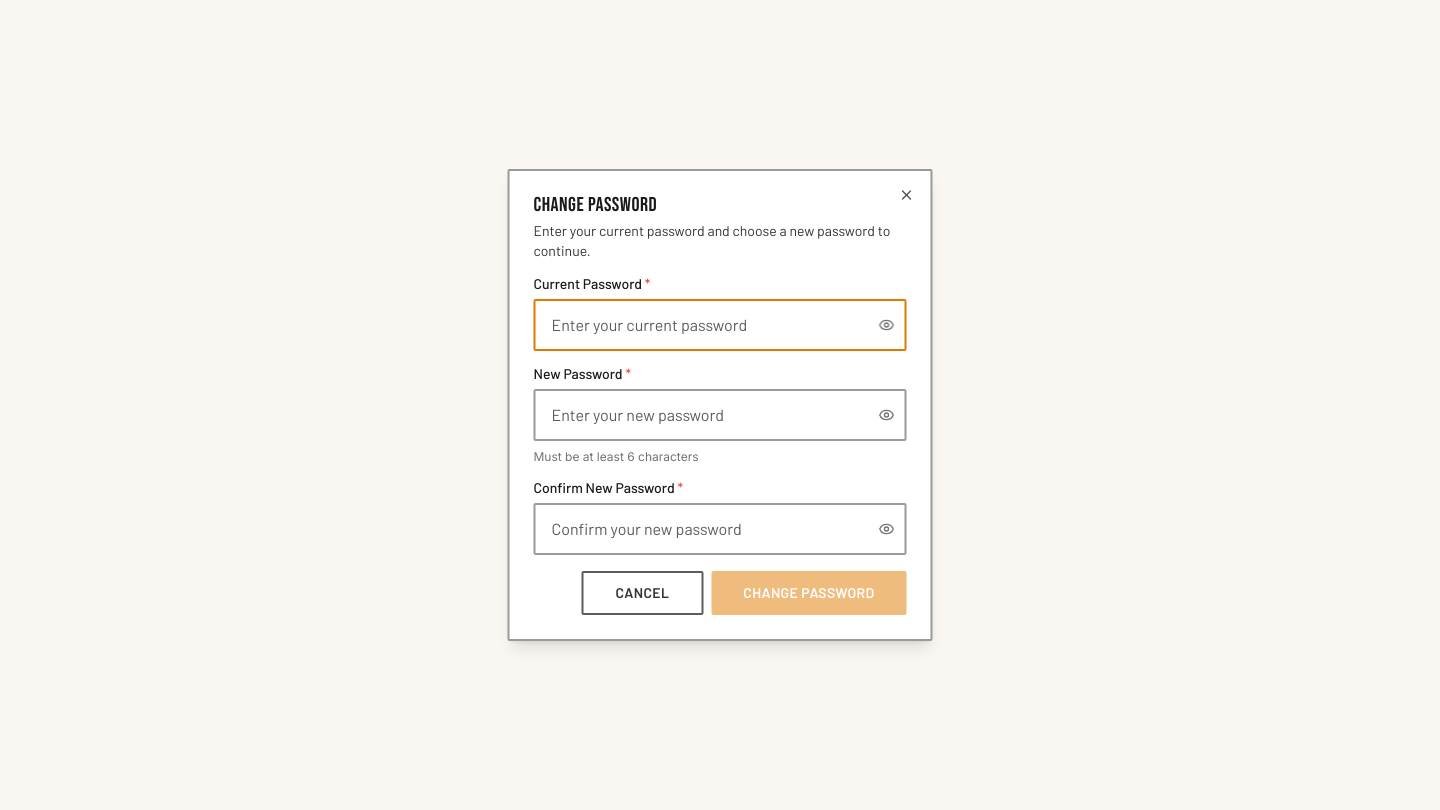
it: PasswordChangeForm › Form Validation › should require new password to be at least 6 characters
The image size is (1440, 810).
In the password field labelled "Current Password *": (720, 325) [534, 299, 906, 351], type "oldpass"
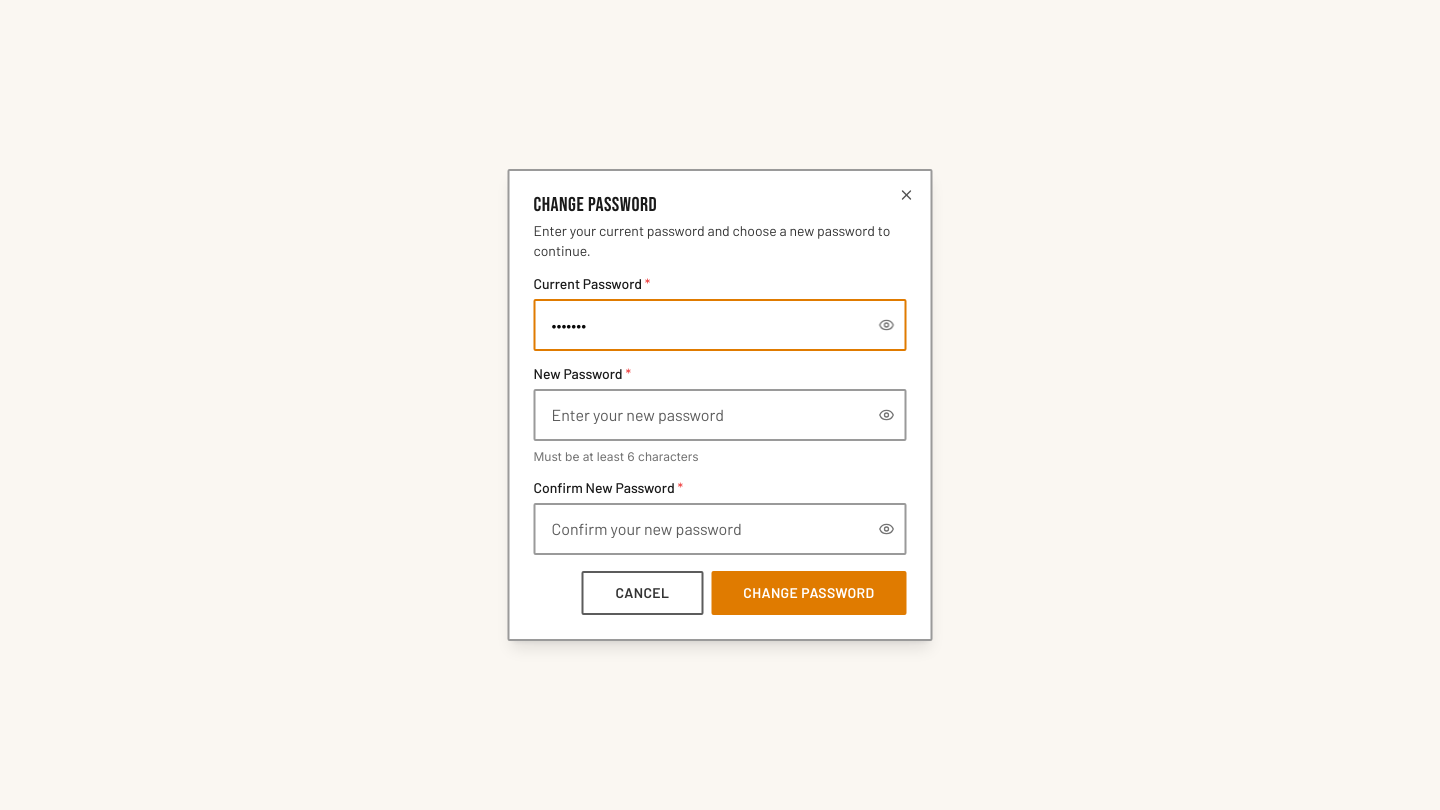
In the password field labelled "New Password *": (720, 415) [534, 389, 906, 441], type "short"
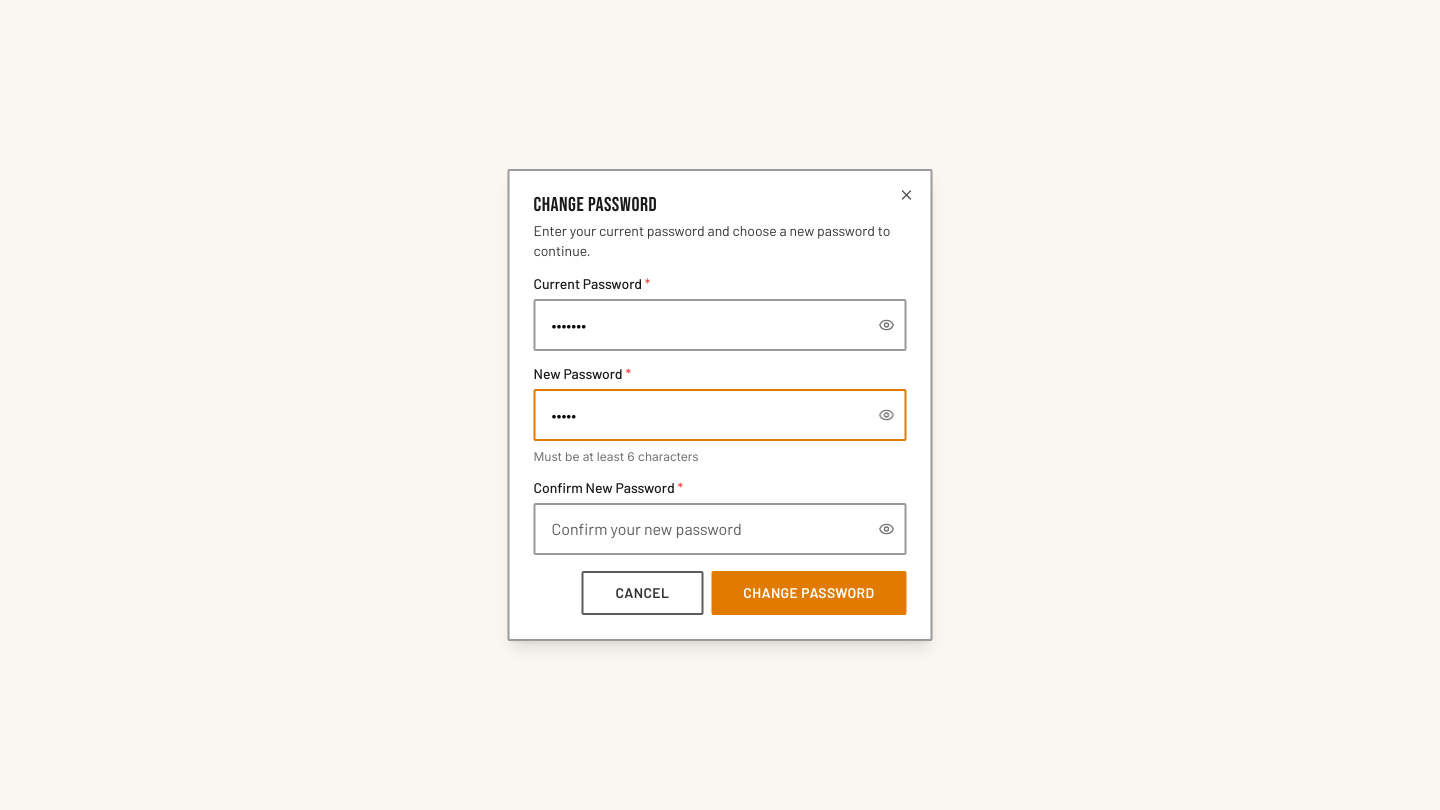
In the password field labelled "Confirm New Password *": (720, 529) [534, 503, 906, 555], type "short"
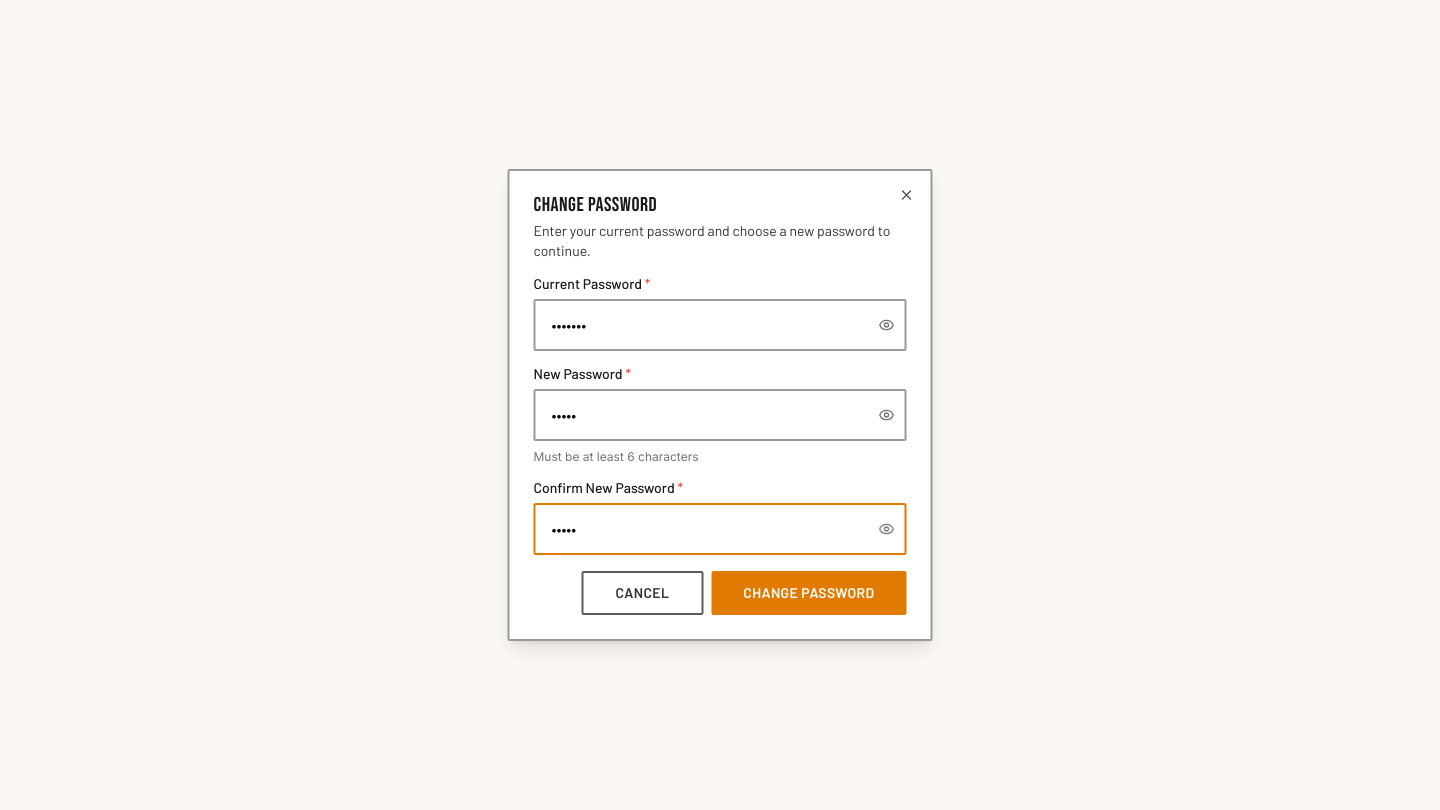
Click the button "Change Password": click(809, 593) [711, 571, 906, 615]
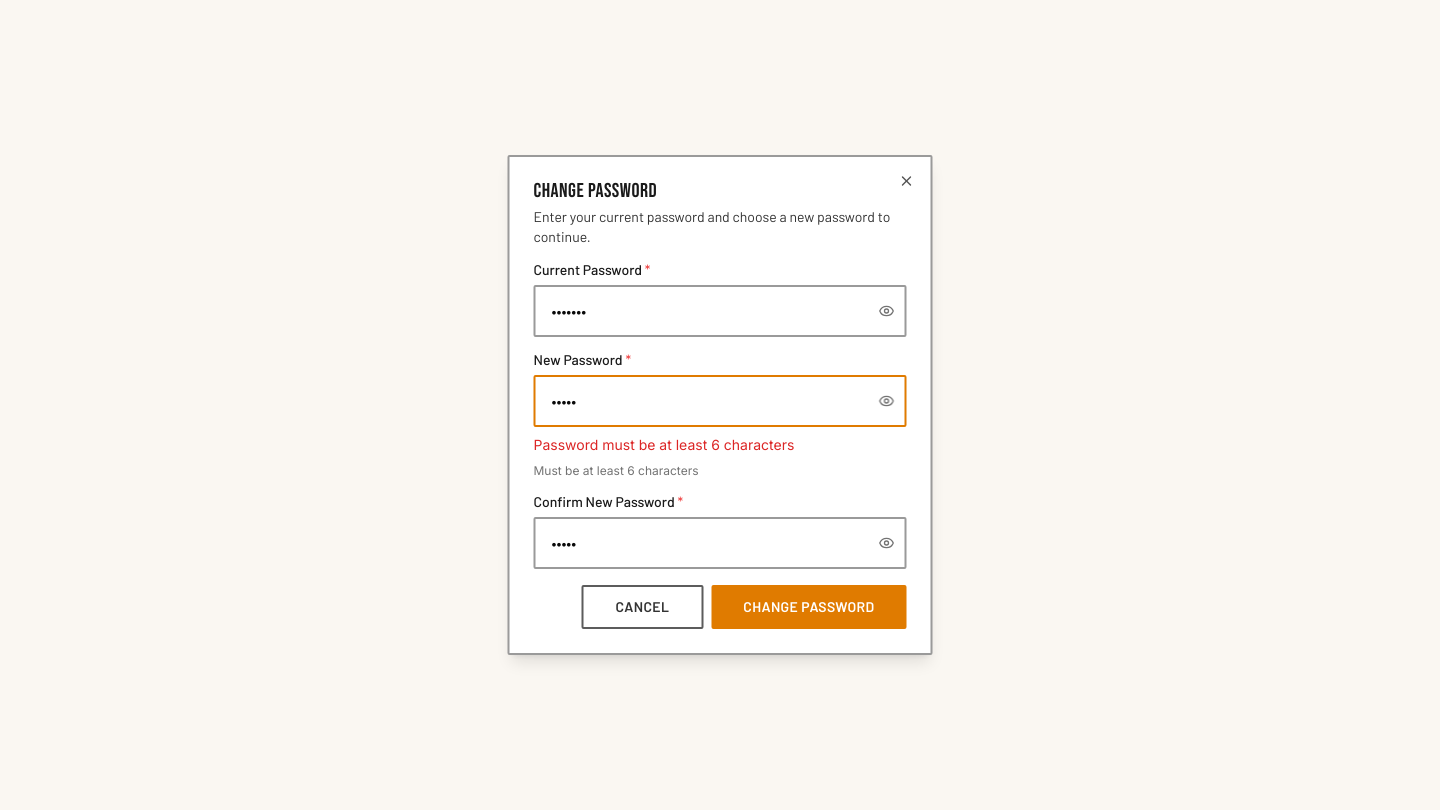
Now the text "Password must be at least 6 characters" is shown, box [534, 436, 794, 453]
